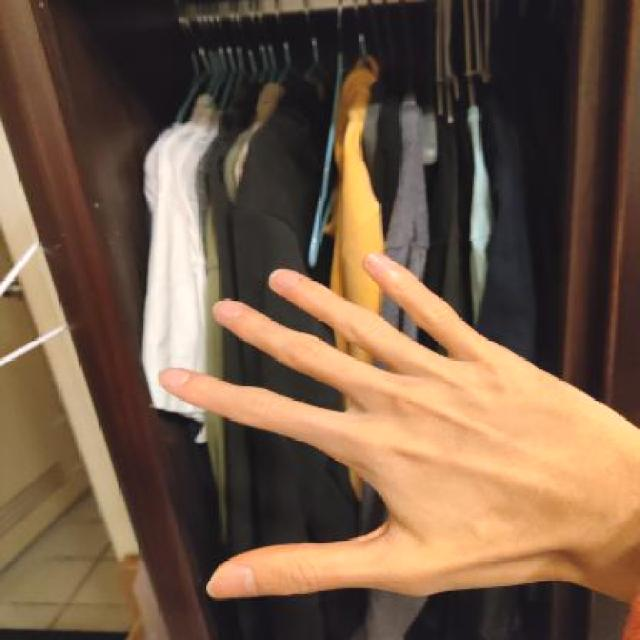no_glove: (154, 233, 640, 622)
